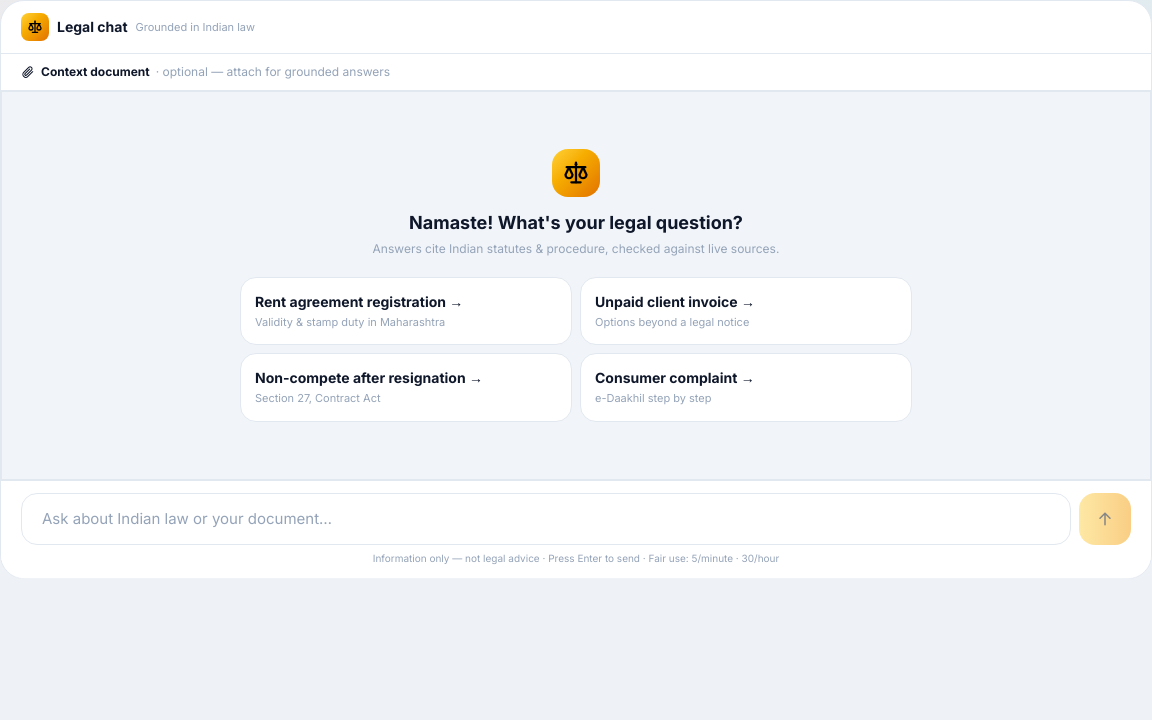
Test case: Ask page › rolls back the optimistic message when the request fails
This screenshot has width=1152, height=720.
Type "Will this fail?" into the field with placeholder "Ask about Indian law or your document…".
click(546, 519); type("Will this fail?")  # box x1=21 y1=493 x2=1071 y2=545
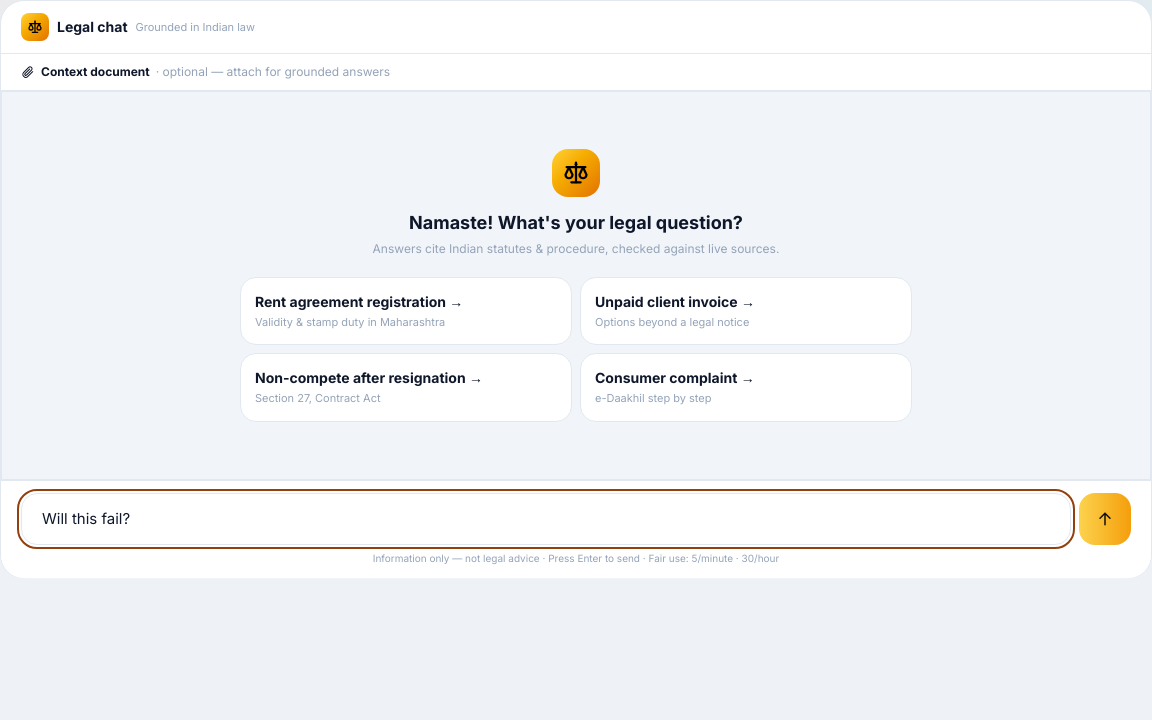
Click the button named "Send question".
click(1105, 519)  # box x1=1079 y1=493 x2=1131 y2=545
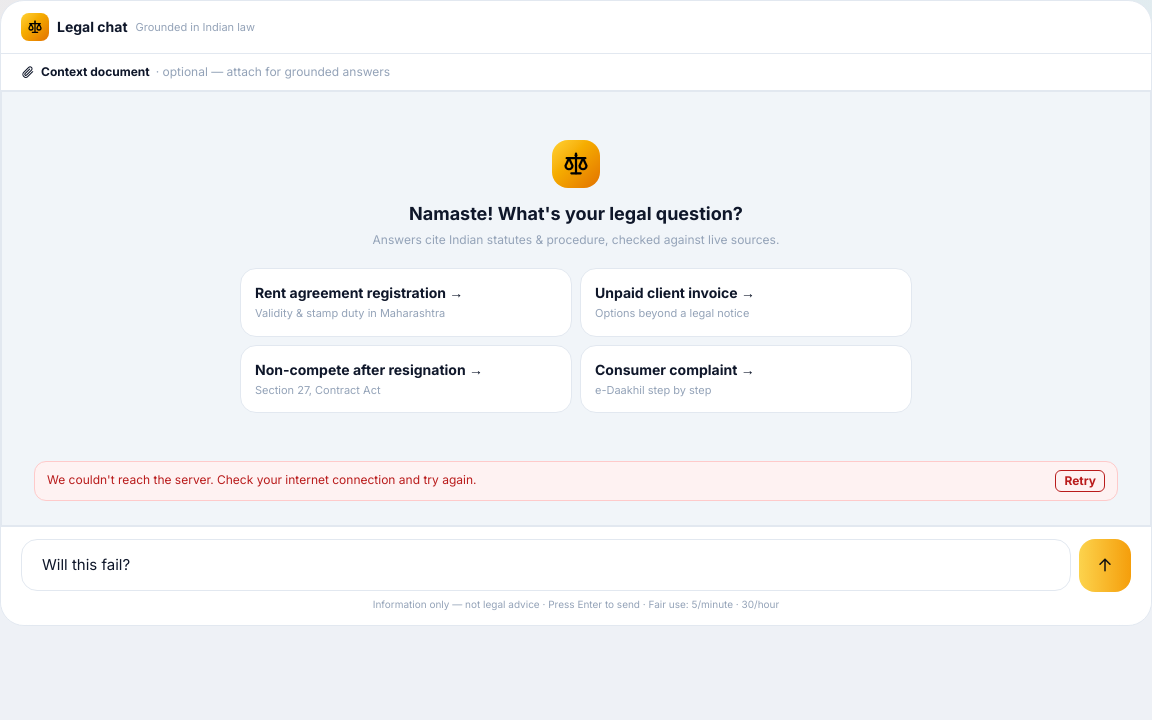
Expected: the text "couldn't reach the server" is shown, x1=47 y1=472 x2=476 y2=487
